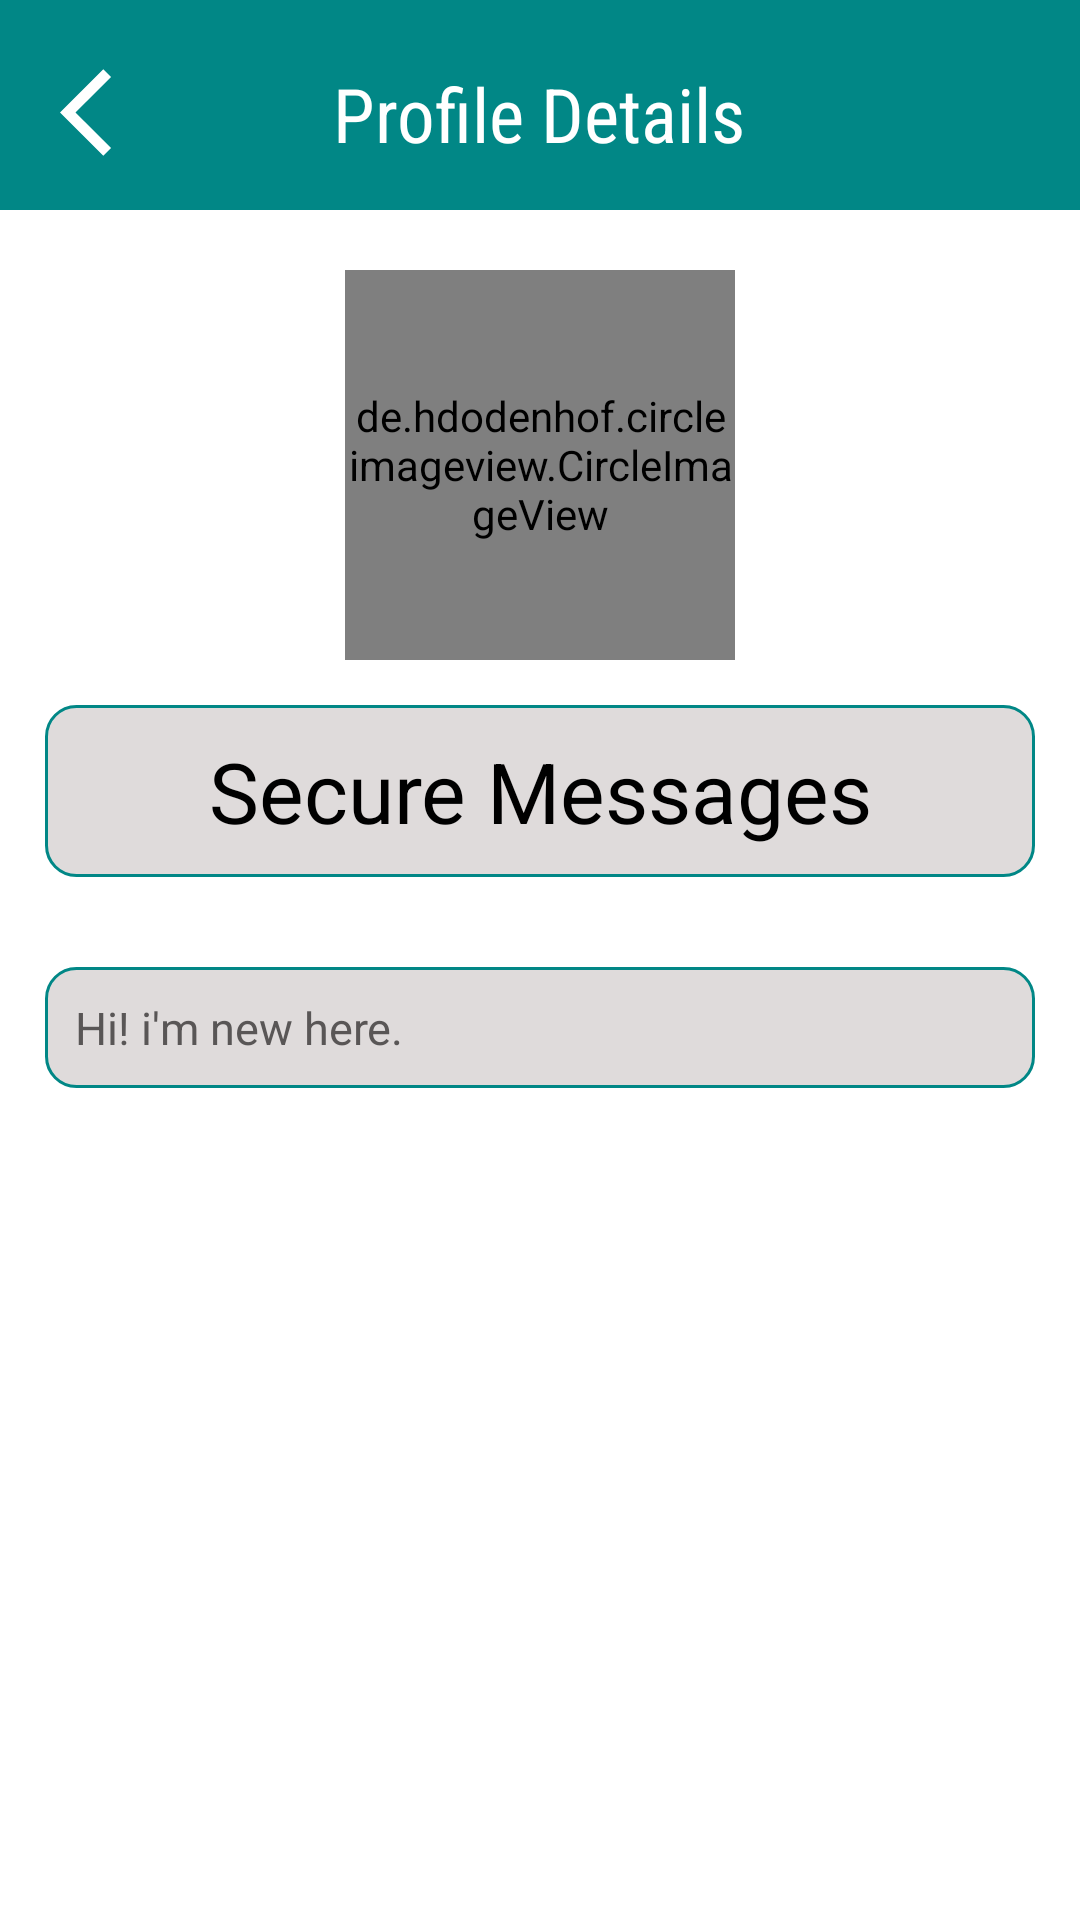

Named icons in this screenshot (1080px×1920px) and their centers, (x,y):
arrow back: (85,112)
